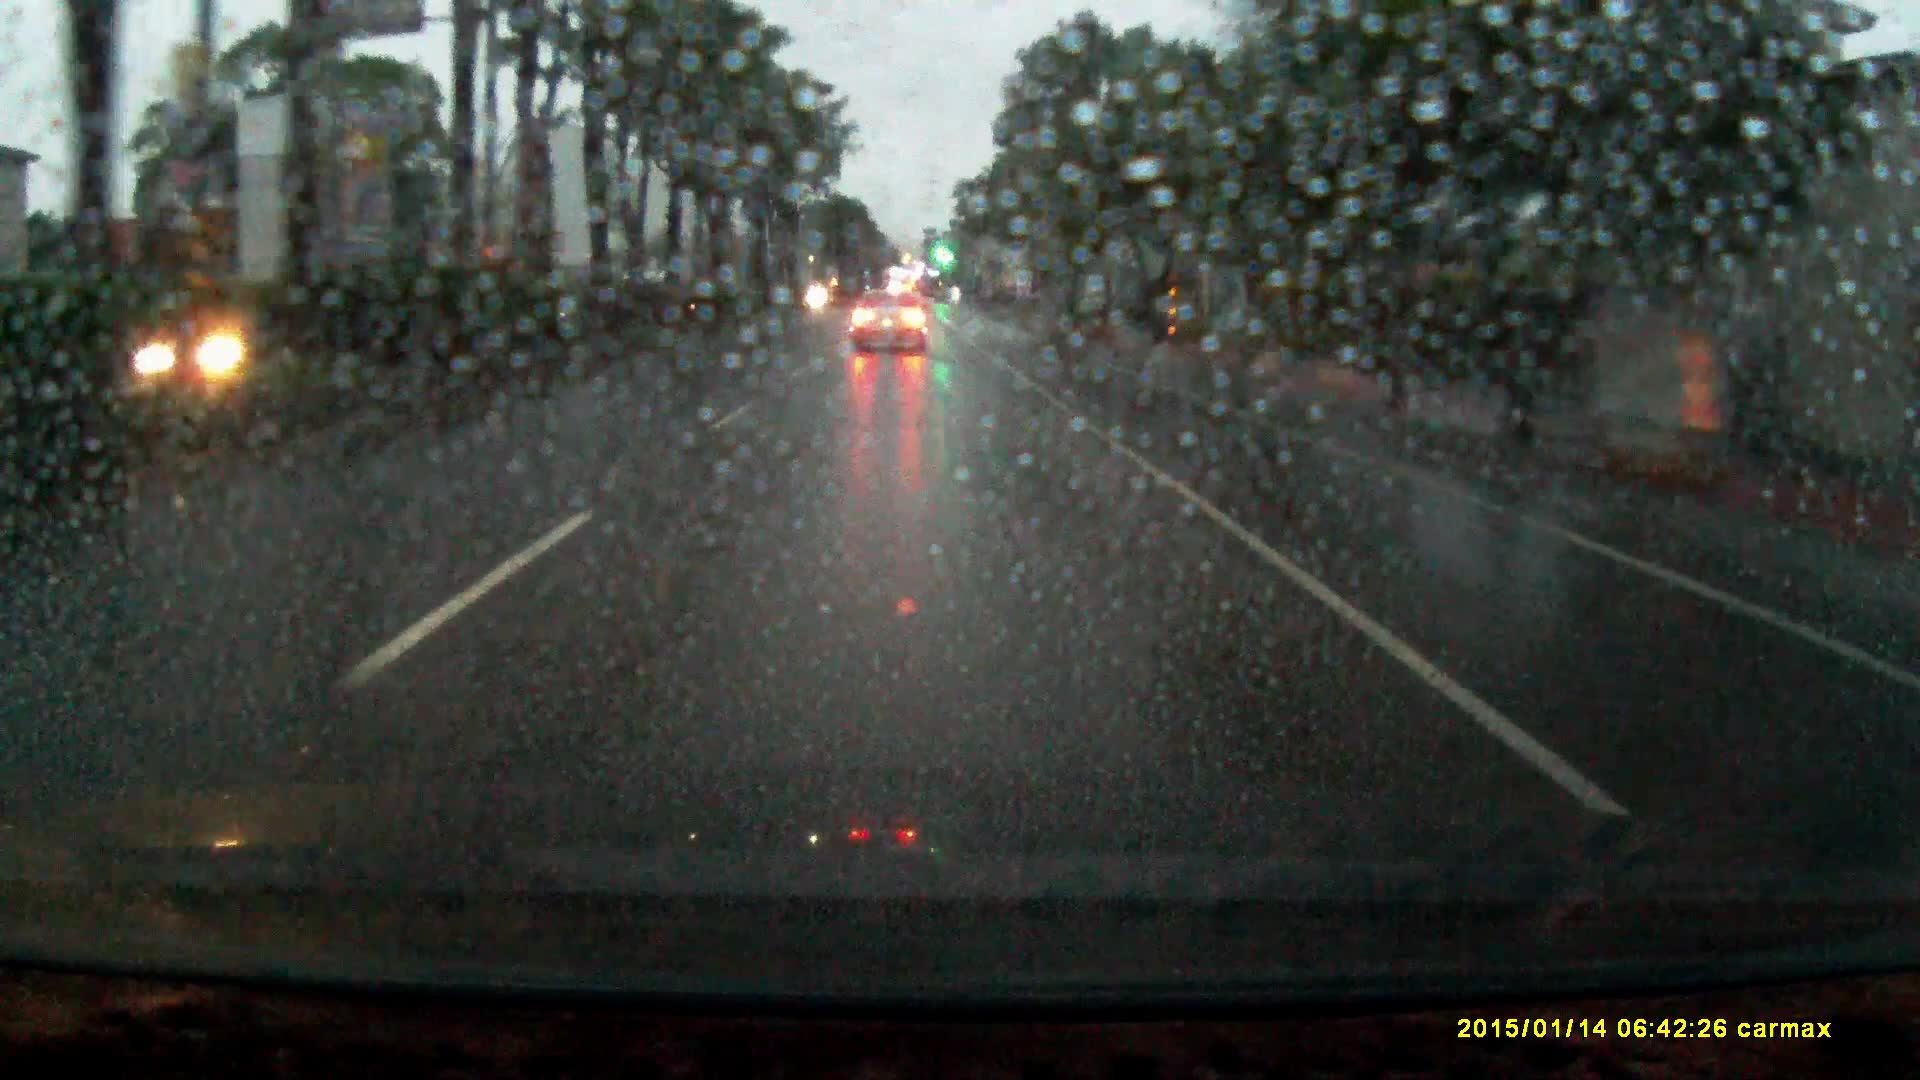vehicle: (127, 314, 276, 392), (848, 287, 930, 357)
